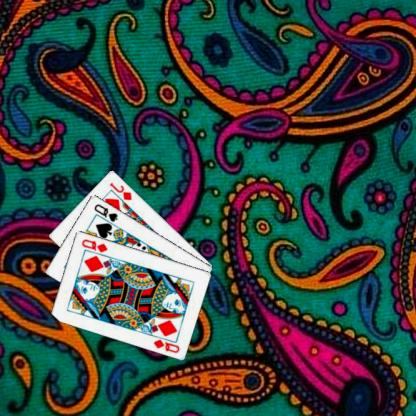JD: (109, 179, 135, 201)
QD: (80, 236, 110, 254), (152, 336, 182, 354)
QS: (93, 201, 121, 223)
